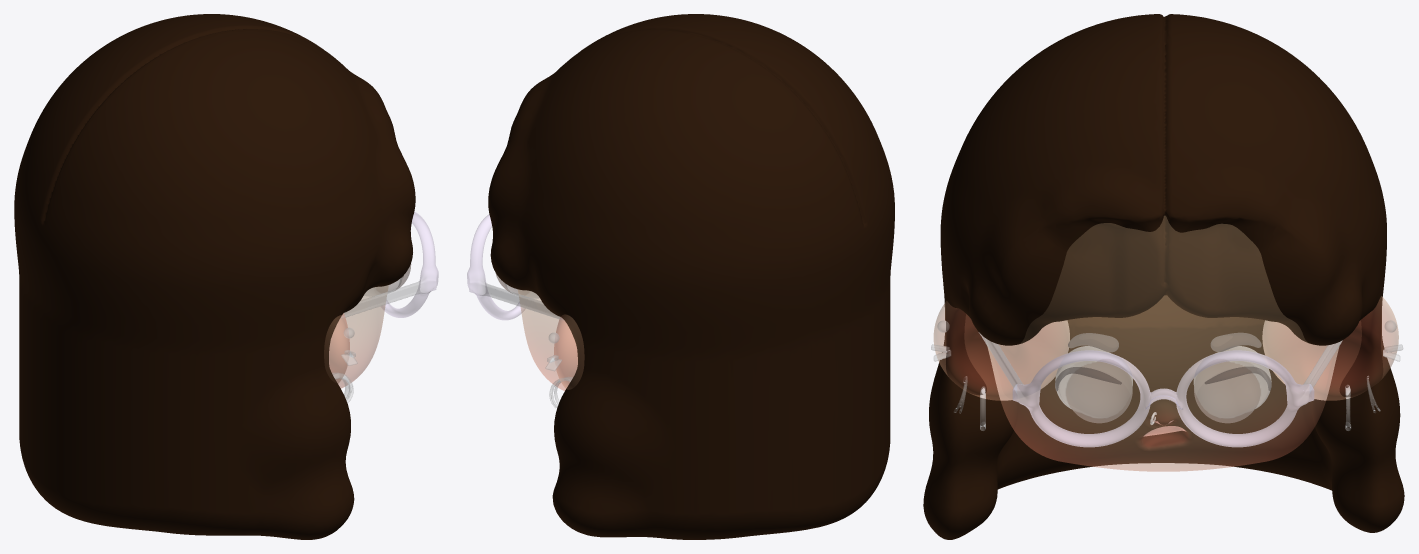
Rendered from avatar.glb.
3 renders of one model, left to right at view 1: azimuth 30°, elevation 25°; view 2: azimuth 150°, elevation 25°; view 3: azimuth 270°, elevation 25°, orthographic. The views are drawn at different scales.
Visible parts, largest first — view 1: hairbase, face, glasses, ears, jewel; view 2: hairbase, face, glasses, ears, jewel; view 3: hairbase, face, ears, glasses, eye, blob, jewel.
Boxes of the visible parts, x1,y1,x2,y2 form: hairbase: (14, 14, 415, 539); face: (329, 285, 388, 388); glasses: (341, 212, 438, 318); ears: (324, 313, 349, 383); jewel: (332, 328, 357, 402); hairbase: (488, 14, 894, 539); face: (518, 289, 577, 390); glasses: (467, 215, 564, 320); ears: (554, 315, 584, 389); jewel: (545, 332, 572, 407); hairbase: (923, 14, 1404, 539); face: (985, 216, 1340, 471); ears: (934, 296, 1398, 400); glasses: (979, 333, 1342, 446); eye: (1055, 346, 1271, 422); blob: (1055, 333, 1271, 390); jewel: (931, 320, 1402, 430).
Size of the model in its own units: 73.26 by 89.64 by 78.29.
Materials: 7 (7 with a texture image).
